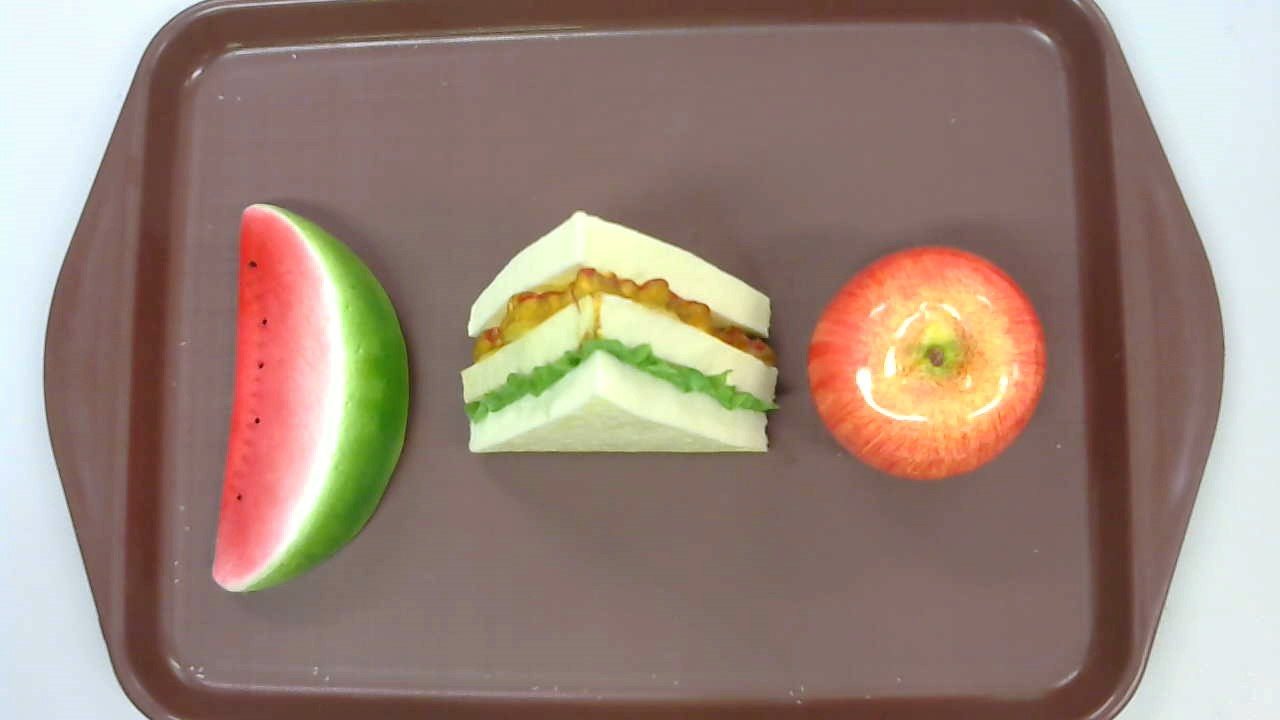red apple: (809, 245, 1047, 481)
sandwich: (460, 211, 782, 456)
water melon: (212, 204, 409, 592)
